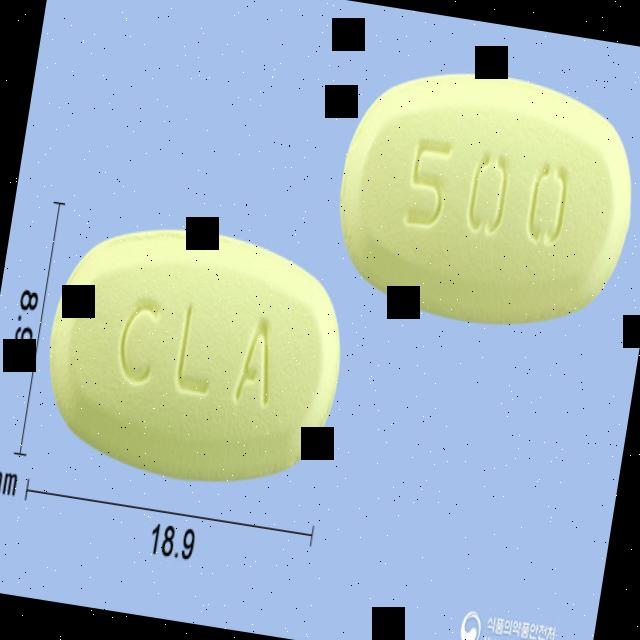Clar - 500mg: (28, 205, 362, 506), (320, 46, 640, 346)
